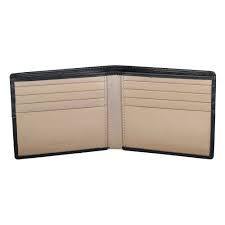monedero: (10, 65, 216, 160)
